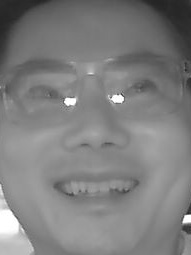eye: (22, 80, 61, 103), (127, 77, 158, 96)
glass: (99, 51, 186, 120), (4, 60, 81, 126)
mouth: (54, 167, 139, 211)
